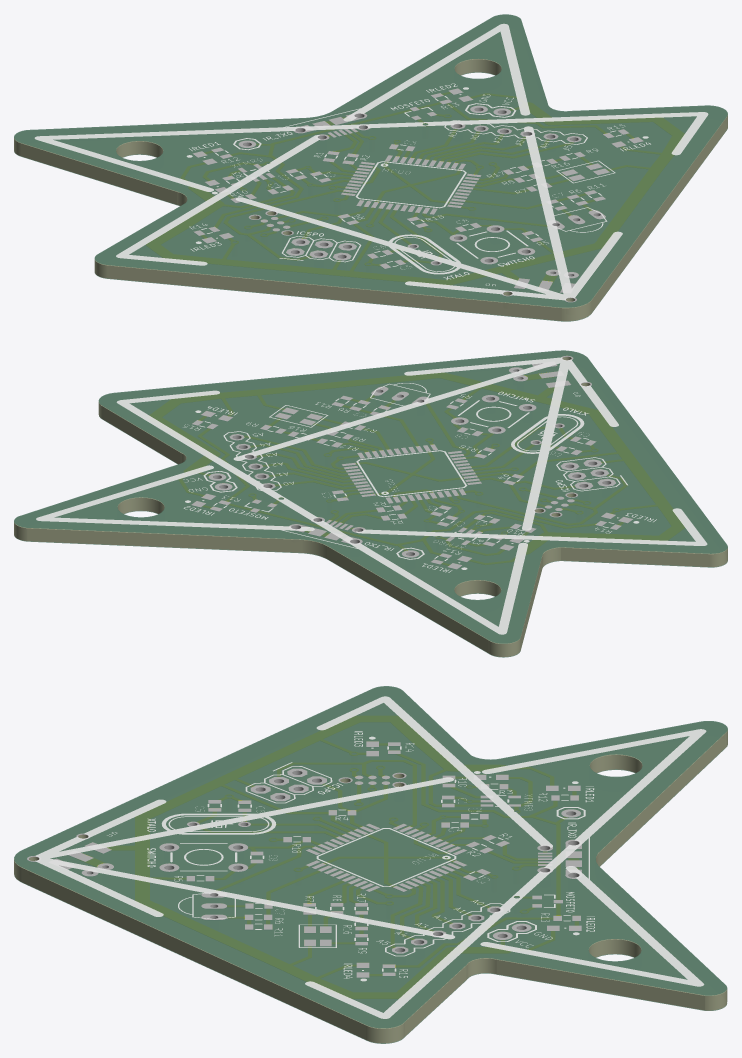
Rendered from fri3d-2016-badge.glb.
3 views of the same model, one above another, from view 1: azimuth 30°, elevation 25°; view 2: azimuth 150°, elevation 25°; view 3: azimuth 270°, elevation 25° (orthographic). The views are drawn at different scales.
Parts seen in each view (by area): view 1: =>[0:1:1:7], =>[0:1:1:9], =>[0:1:1:2], =>[0:1:1:5]; view 2: =>[0:1:1:7], =>[0:1:1:9], =>[0:1:1:2], =>[0:1:1:5]; view 3: =>[0:1:1:7], =>[0:1:1:9], =>[0:1:1:2], =>[0:1:1:5].
Part boxes in pixels (box(x1,y1,x2,y2)): =>[0:1:1:7]: box(14, 14, 727, 321); =>[0:1:1:9]: box(14, 15, 727, 321); =>[0:1:1:2]: box(146, 88, 683, 302); =>[0:1:1:5]: box(34, 23, 708, 300); =>[0:1:1:7]: box(14, 350, 727, 657); =>[0:1:1:9]: box(14, 351, 727, 656); =>[0:1:1:2]: box(150, 356, 684, 569); =>[0:1:1:5]: box(36, 357, 707, 634); =>[0:1:1:7]: box(14, 686, 727, 1043); =>[0:1:1:9]: box(14, 687, 727, 1043); =>[0:1:1:2]: box(27, 716, 581, 998); =>[0:1:1:5]: box(35, 696, 706, 1018).
Bounding box in the file's own units: 0.0765 × 0.00166 × 0.0674.
4 materials, 4 textured.
